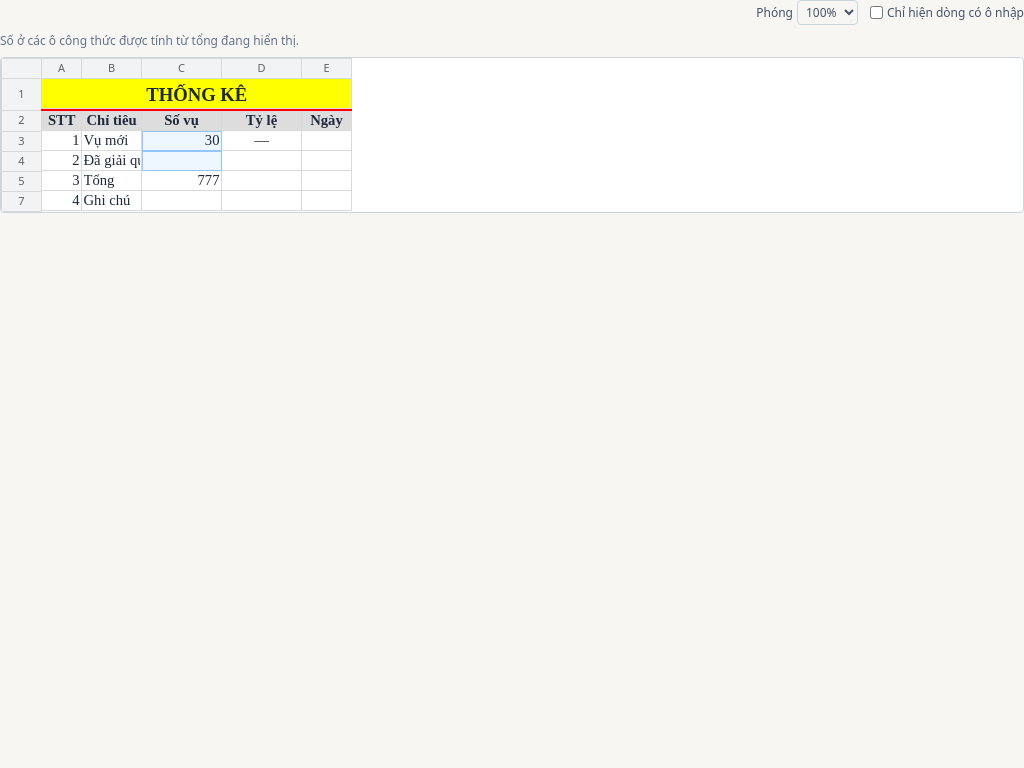
Scenario: GridViewer — aggregate (S15) › opens the teams behind a figure when its cell is clicked, and closes on a second click
Expected: the element with test id "grid-viewer" is shown, top-left (0, 0), bottom-right (1023, 212)
Click the cell with test id "cell-C3" at (182, 141), box top-left (142, 131), bottom-right (222, 151)
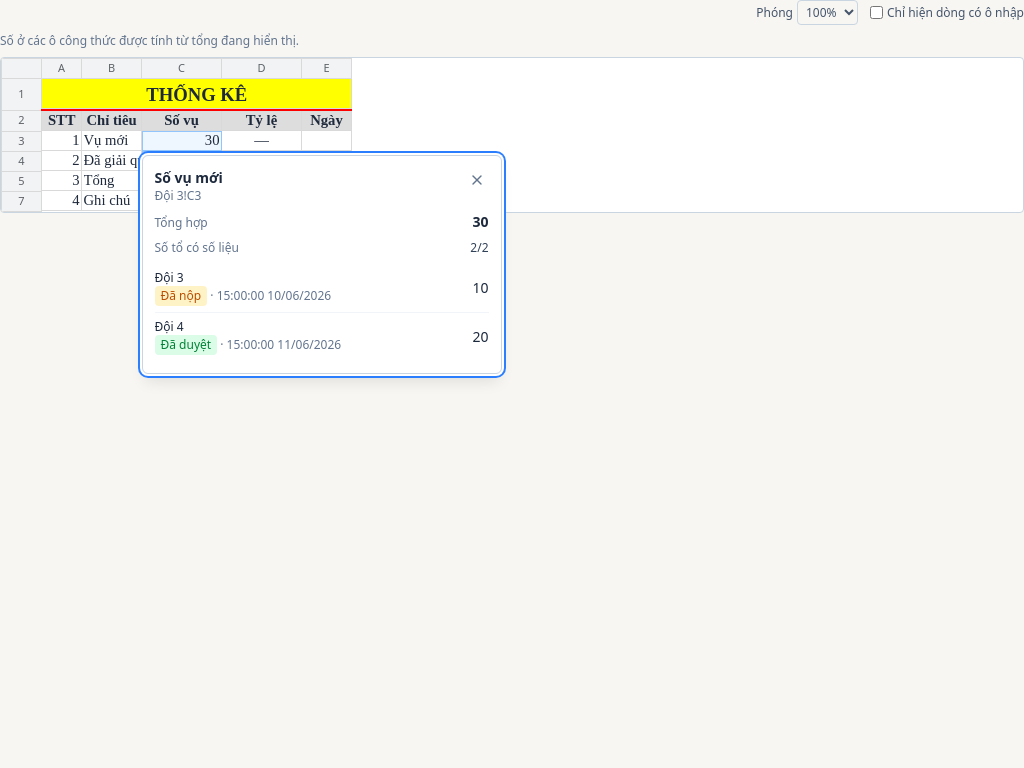
Now the dialog with test id "contributors-popover" shows "Đội 3", box top-left (154, 187), bottom-right (184, 204)
Now the dialog with test id "contributors-popover" shows "Đội 4", box top-left (154, 318), bottom-right (184, 335)
Click the cell with test id "cell-C3" at (182, 141), box top-left (142, 131), bottom-right (222, 151)
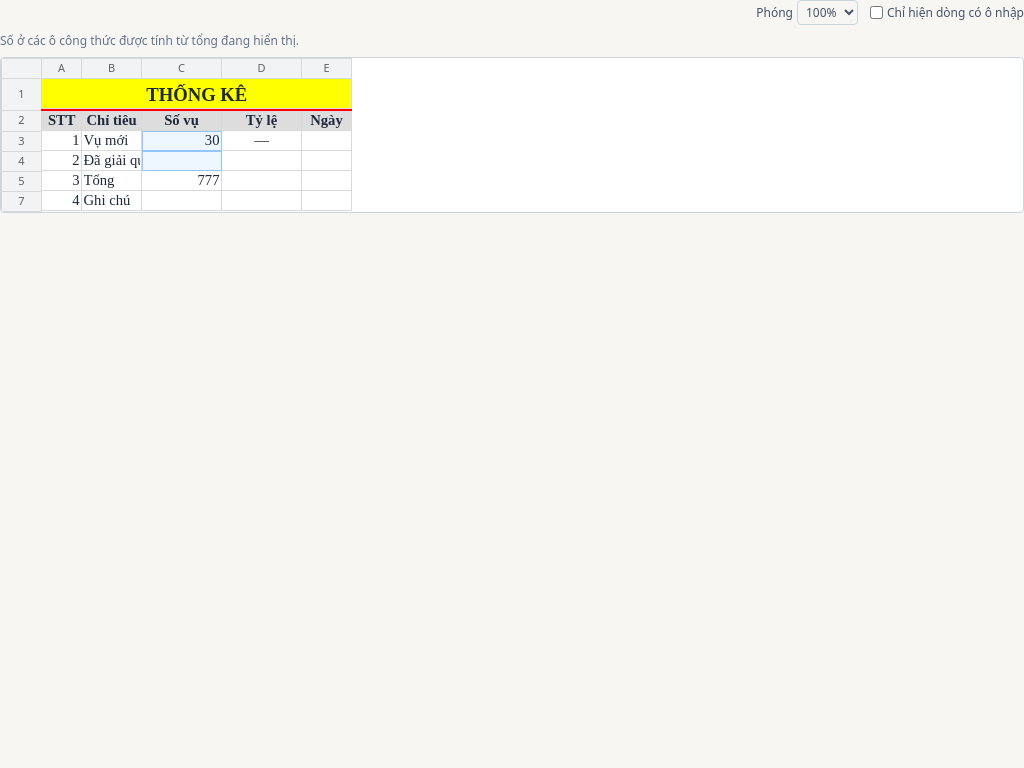
Now the dialog with test id "contributors-popover" is gone
